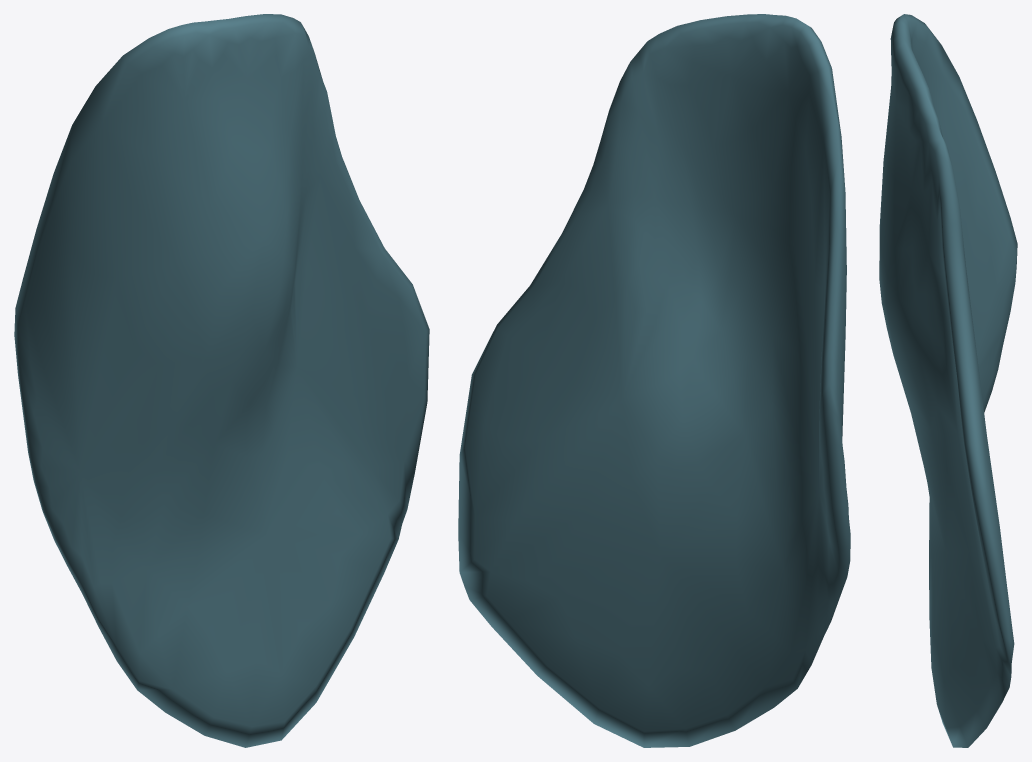
Rendered from Brachialis_muscle-Ulnar_insertion.r_Generated_Mesh_From_X3D.608.glb.
3 views of the same model, side by side, from view 1: azimuth 30°, elevation 25°; view 2: azimuth 150°, elevation 25°; view 3: azimuth 270°, elevation 25° (orthographic). The views are drawn at different scales.
Visible parts, largest first — view 1: Brachialis_muscle-Ulnar_insertion.r_Generated_Mesh_From_X3D.; view 2: Brachialis_muscle-Ulnar_insertion.r_Generated_Mesh_From_X3D.; view 3: Brachialis_muscle-Ulnar_insertion.r_Generated_Mesh_From_X3D..
Part boxes in pixels (x1,y1,x2,y2): Brachialis_muscle-Ulnar_insertion.r_Generated_Mesh_From_X3D.: (14, 14, 429, 747); Brachialis_muscle-Ulnar_insertion.r_Generated_Mesh_From_X3D.: (458, 14, 850, 747); Brachialis_muscle-Ulnar_insertion.r_Generated_Mesh_From_X3D.: (879, 14, 1017, 747).
Bounding box in the file's own units: 0.00919 × 0.0168 × 0.00312.
